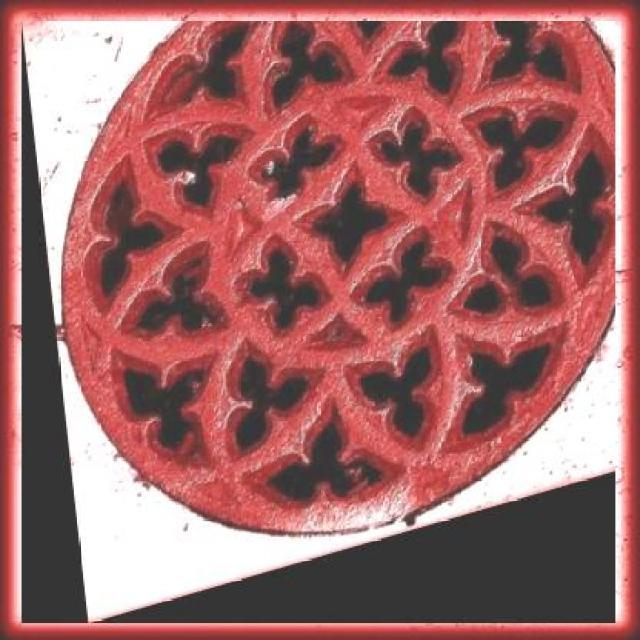Manhole: (22, 20, 616, 623)
